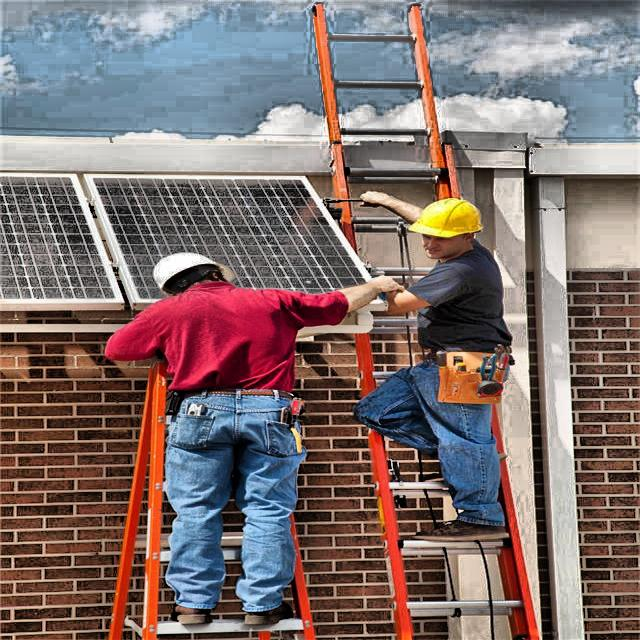helmet: (407, 193, 488, 259), (147, 246, 225, 295)
